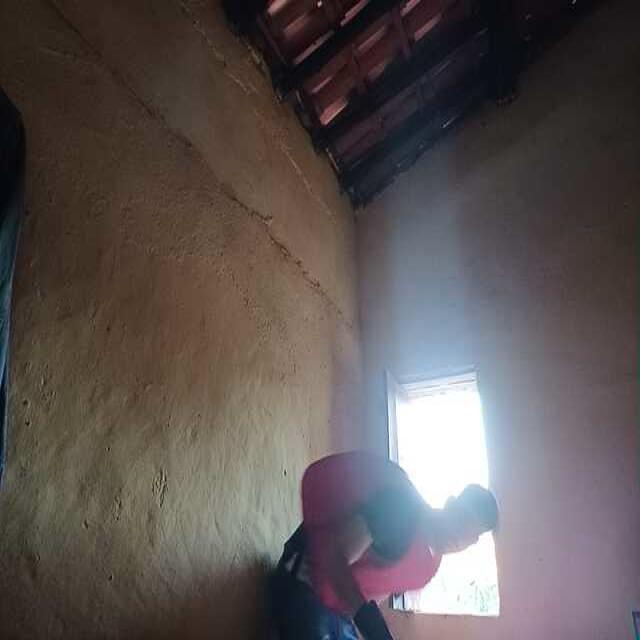colete: (303, 458, 440, 601)
pessoa: (280, 456, 506, 630)
